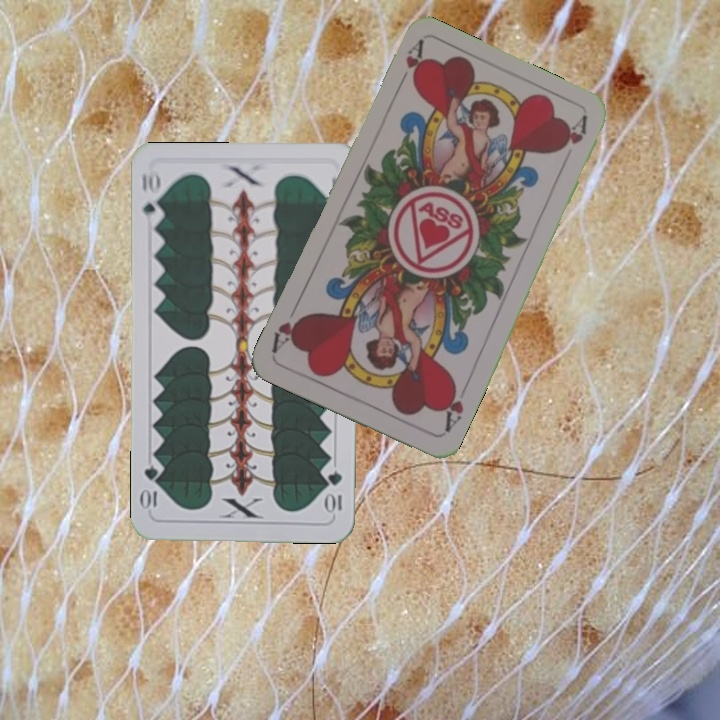G10: (138, 167, 165, 226), (323, 467, 344, 516)
HA: (392, 37, 427, 94), (438, 377, 467, 436)
